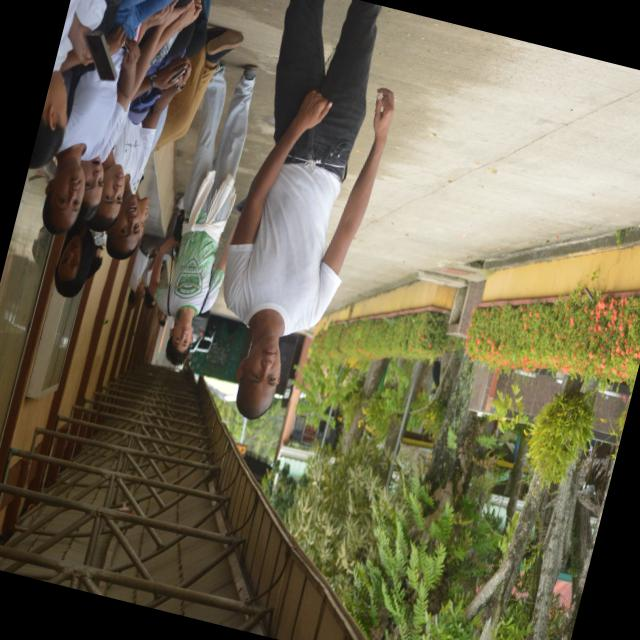person: (223, 0, 393, 418), (149, 64, 257, 364), (54, 219, 105, 296)
